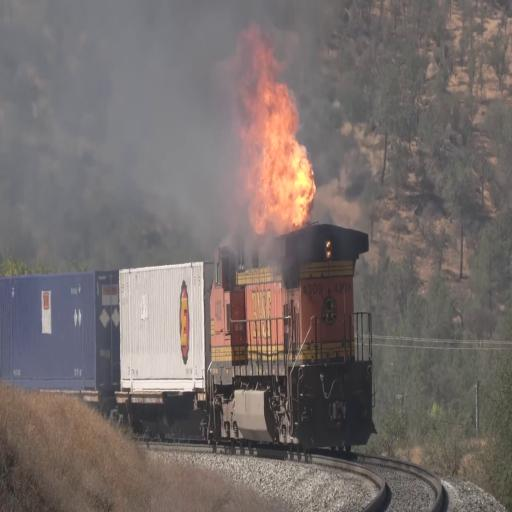fire: (226, 22, 316, 218)
